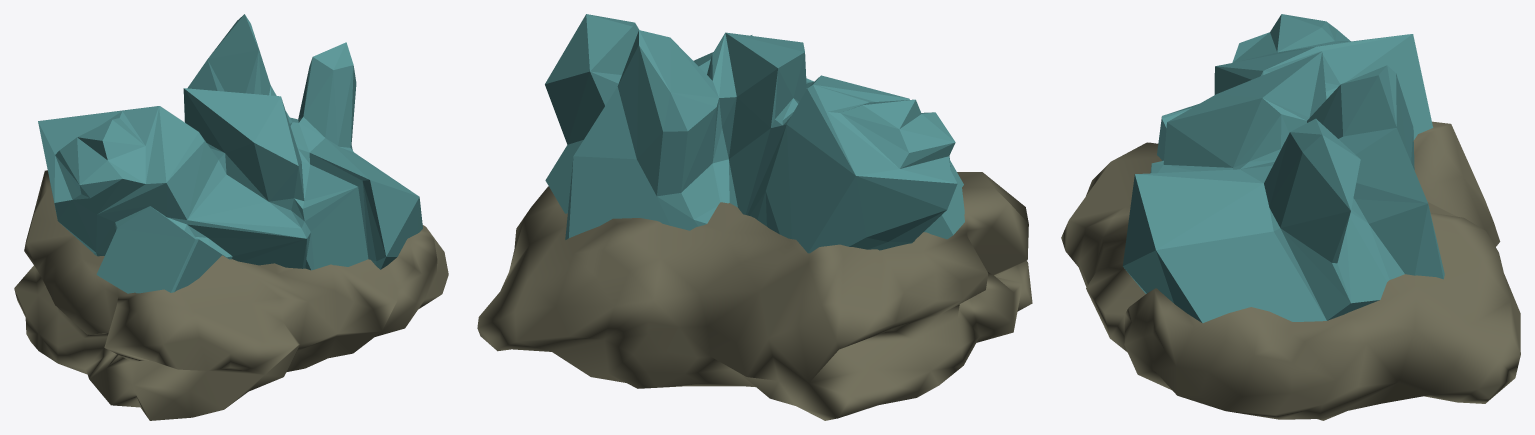
Rendered from scenarium_lod1.fbx.
3 renders of one model, left to right at view 1: azimuth 30°, elevation 25°; view 2: azimuth 150°, elevation 25°; view 3: azimuth 270°, elevation 25°, orthographic. The views are drawn at different scales.
Visible parts, largest first — view 1: scenarium_base_lod1, scenarium_lod1; view 2: scenarium_lod1, scenarium_base_lod1; view 3: scenarium_base_lod1, scenarium_lod1.
Boxes of the visible parts, x1=… form: scenarium_base_lod1: x1=38, y1=14, x2=422, y2=293; scenarium_lod1: x1=14, y1=170, x2=448, y2=420; scenarium_lod1: x1=477, y1=172, x2=1032, y2=420; scenarium_base_lod1: x1=545, y1=14, x2=964, y2=253; scenarium_base_lod1: x1=1122, y1=14, x2=1444, y2=323; scenarium_lod1: x1=1061, y1=121, x2=1520, y2=420.
Size of the model in its own units: 3.57 by 2.51 by 3.35.
